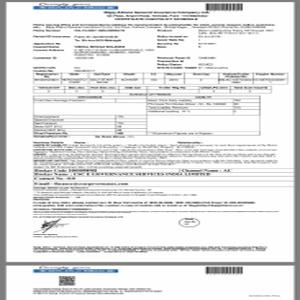table: (31, 94, 260, 138), (32, 73, 289, 87)
text: (32, 21, 275, 71), (32, 141, 279, 173), (103, 10, 210, 21)
